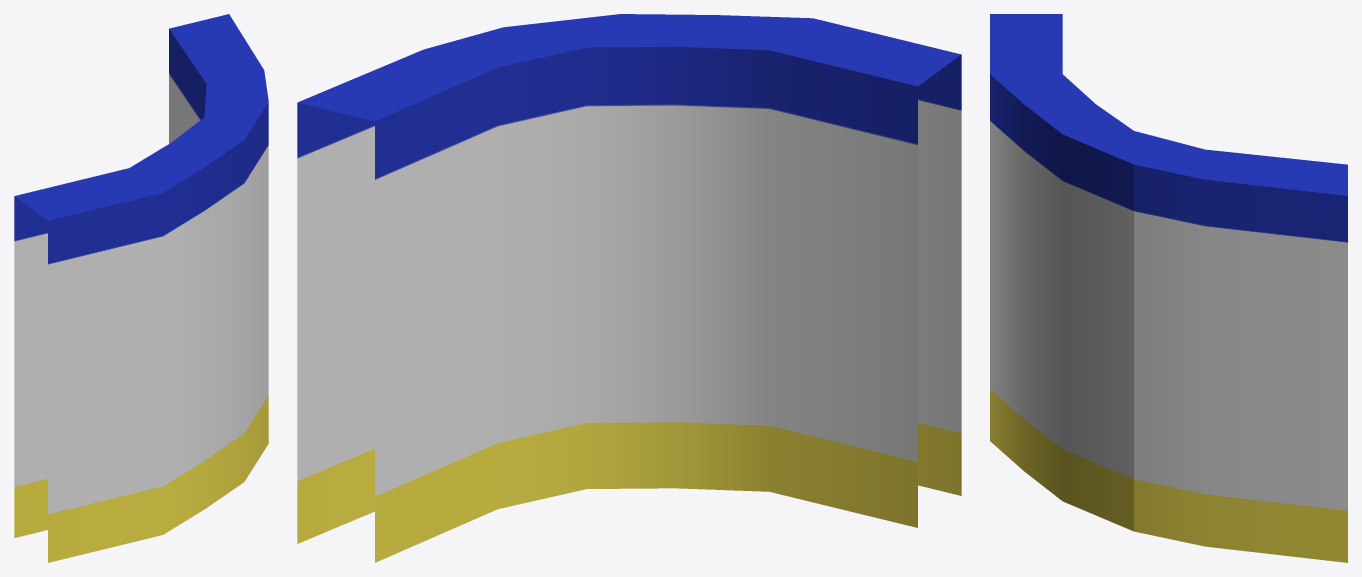
Rendered from corner_test.fbx.
The picture shows the model from 3 angles, left to right: view 1: azimuth 30°, elevation 25°; view 2: azimuth 150°, elevation 25°; view 3: azimuth 270°, elevation 25°; orthographic projection. The views are drawn at different scales.
Visible parts, largest first — view 1: pCube1; view 2: pCube1; view 3: pCube1.
Part boxes in pixels (x1,y1,x2,y2): pCube1: (14, 14, 268, 562); pCube1: (297, 14, 961, 562); pCube1: (990, 14, 1347, 562).
Size of the model in its own units: 121 by 114 by 100.
